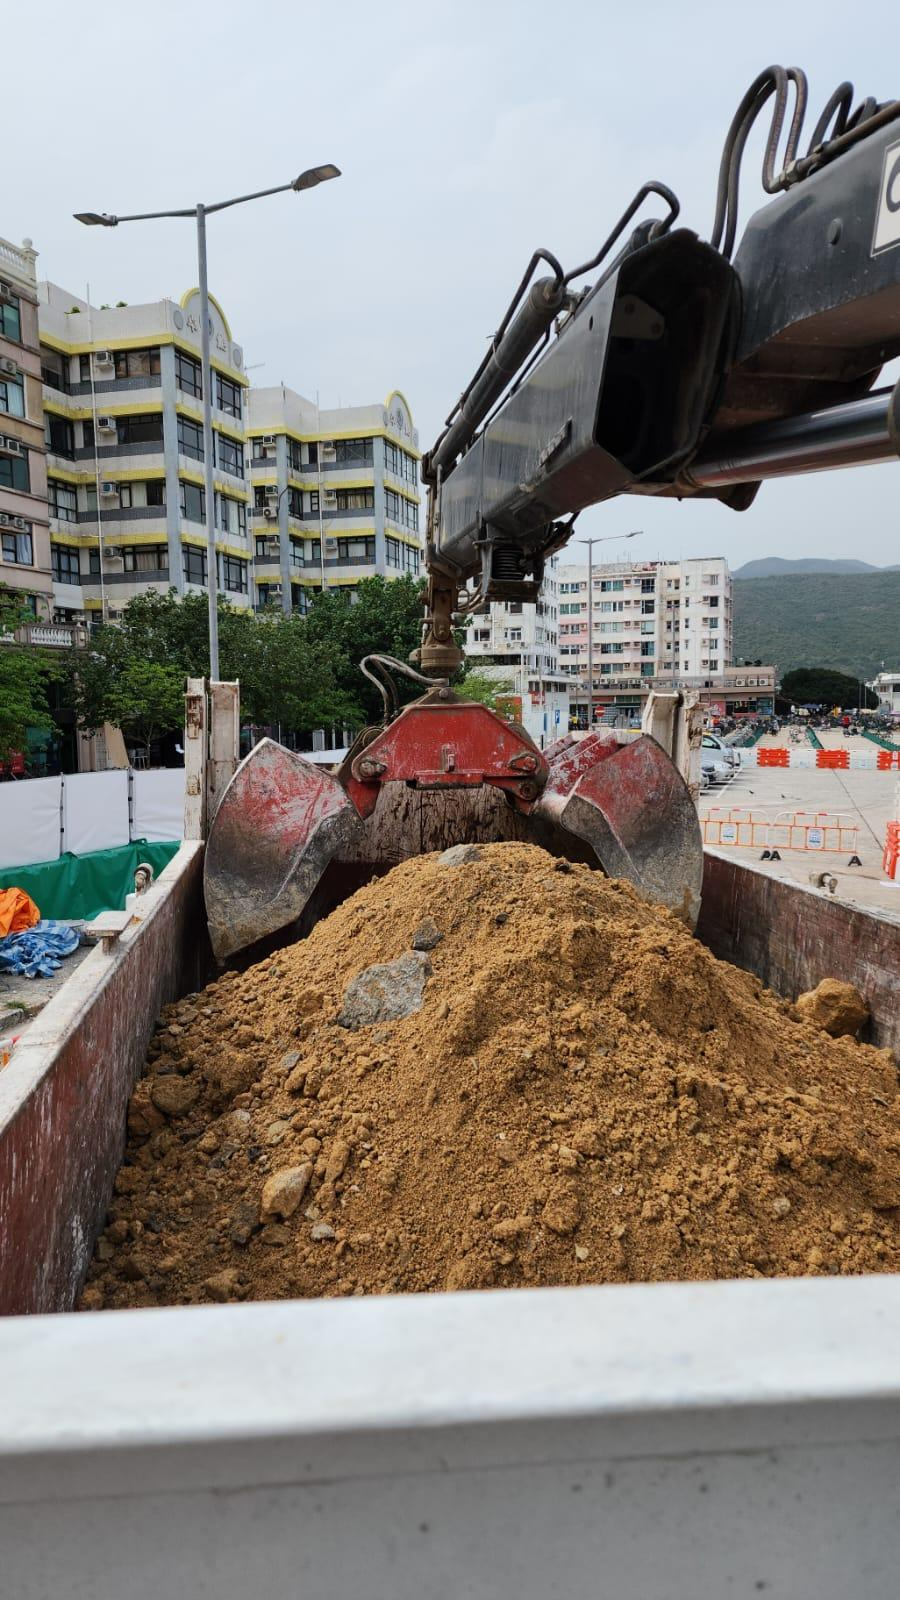dry: (110, 837, 900, 1300)
